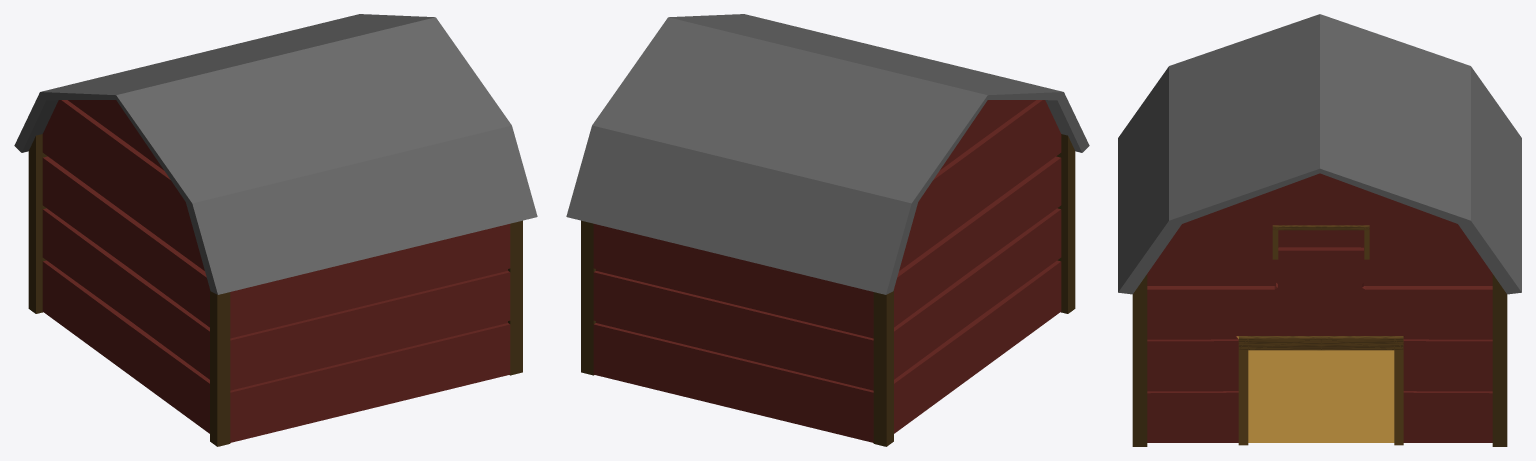
Rendered from barn.fbx.
3 renders of one model, left to right at view 1: azimuth 30°, elevation 25°; view 2: azimuth 150°, elevation 25°; view 3: azimuth 270°, elevation 25°, orthographic.
Parts seen in each view (by area): view 1: barn; view 2: barn; view 3: barn.
Boxes of the visible parts, <box> form: barn: <box>14,14,537,446</box>; barn: <box>566,14,1089,446</box>; barn: <box>1118,14,1521,446</box>.
Size of the model in its own units: 1308 by 1112 by 1445.
